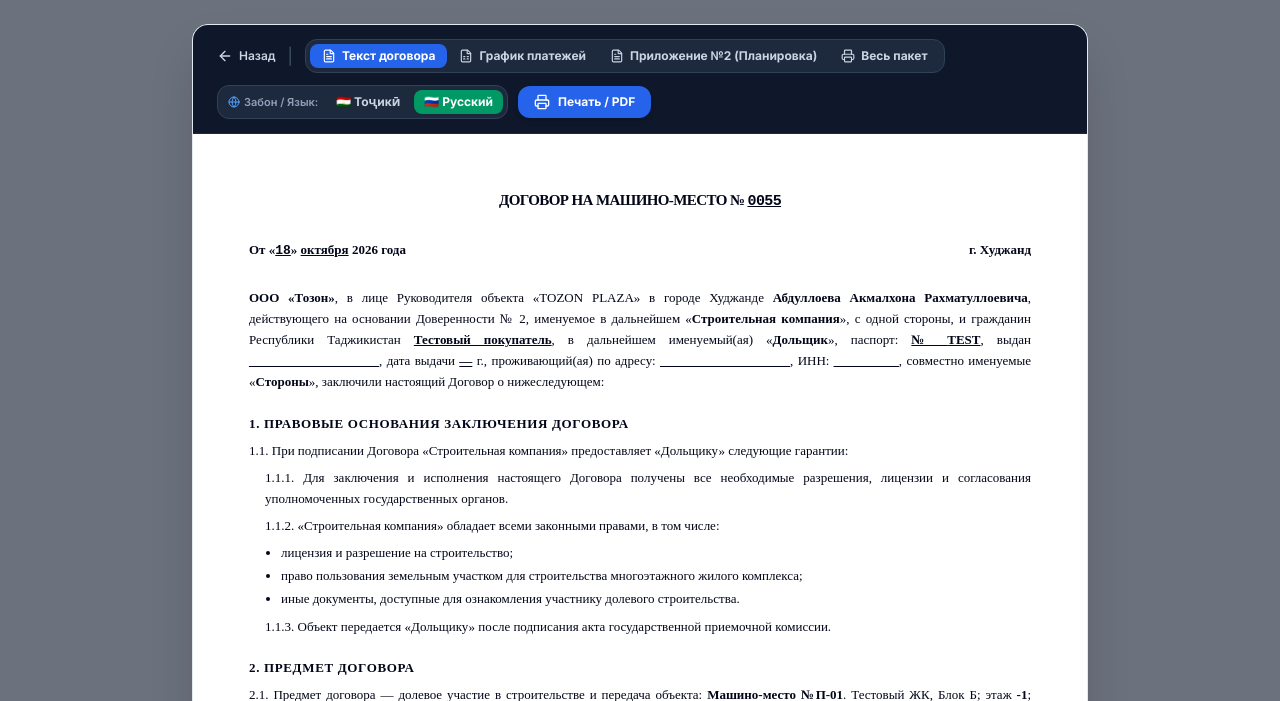
parking and commercial sales › prints the parking payment schedule with its object identity and exact price
This screenshot has width=1280, height=701.
Click the button "График платежей": [523, 56] box [447,44,598,68]
(page scrolled)
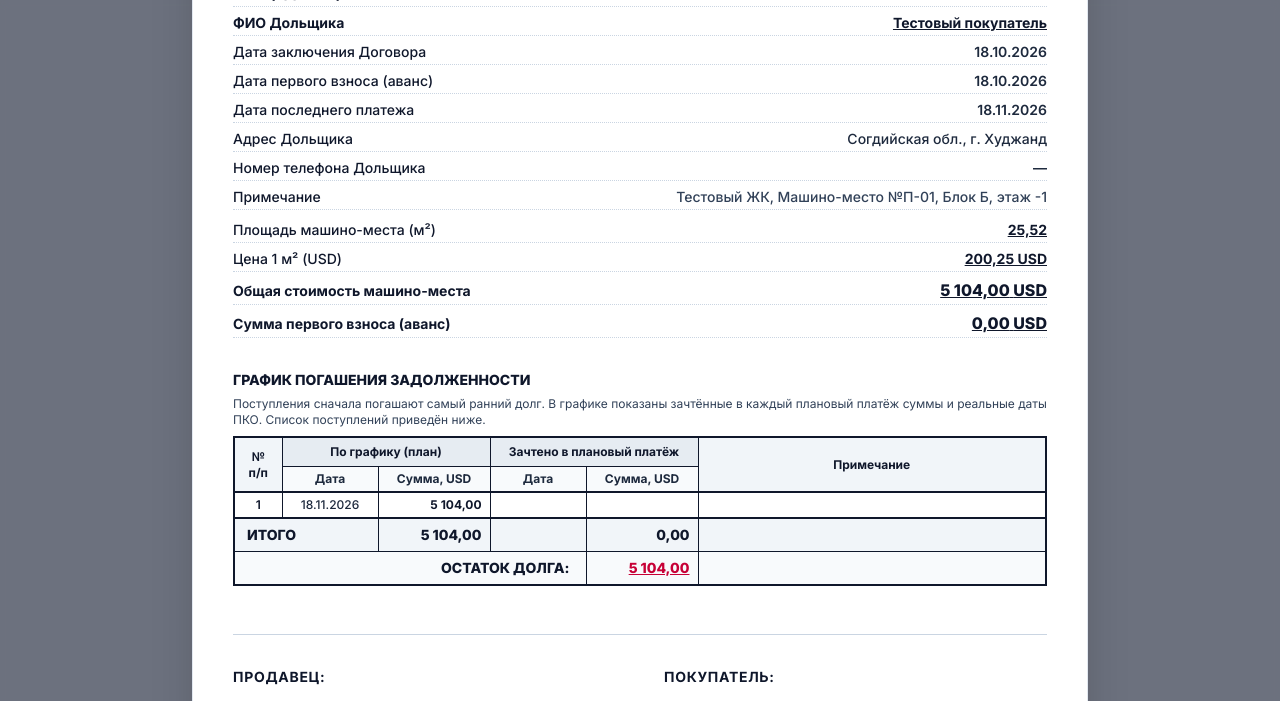
expect the text "Машино-место №П-01" is shown: met, box [676,188,1047,205]
expect the text "Блок Б" is shown: met, box [676,188,1047,205]
expect the text "200,25 USD" is shown: met, box [965,250,1047,267]
